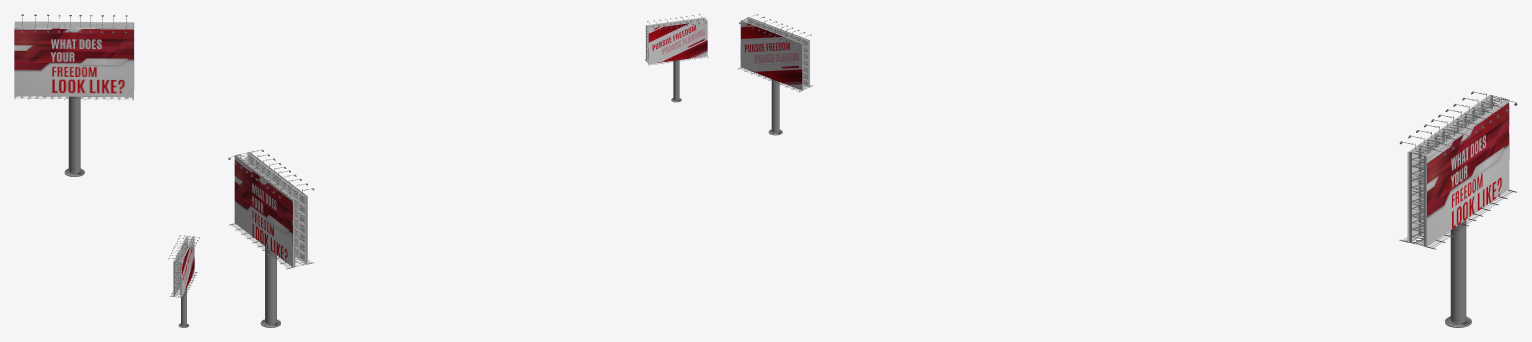
File: mapObject2.glb
The picture shows the model from 3 angles, left to right: view 1: azimuth 30°, elevation 25°; view 2: azimuth 150°, elevation 25°; view 3: azimuth 270°, elevation 25°; orthographic projection. The views are drawn at different scales.
Parts seen in each view (by area): view 1: b2.001, B1; view 2: b2.001, B1; view 3: b2.001, B1.
Boxes of the visible parts, x1=… form: b2.001: x1=14, y1=14, x2=134, y2=176; B1: x1=168, y1=235, x2=199, y2=327; b2.001: x1=228, y1=149, x2=314, y2=327; B1: x1=645, y1=14, x2=708, y2=102; b2.001: x1=1399, y1=91, x2=1517, y2=327; B1: x1=737, y1=14, x2=812, y2=135.
Size of the model in its own units: 0.3149 by 0.2058 by 0.722.
16 materials, 6 textured.
